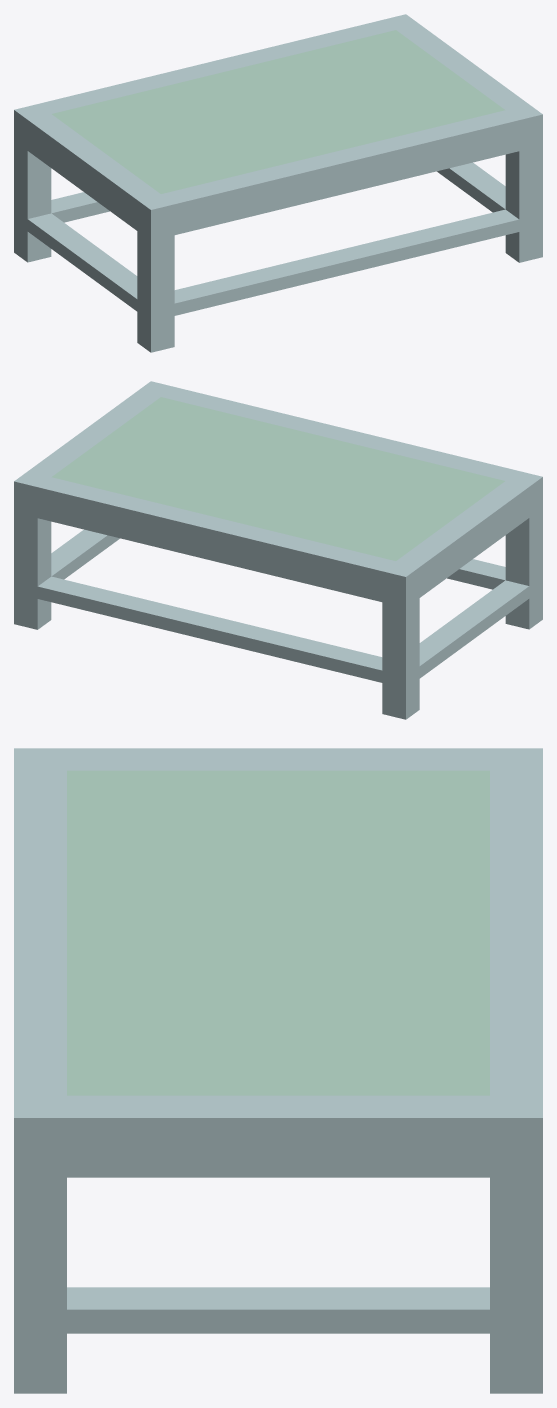
3 renders of one model, top to bottom at view 1: azimuth 30°, elevation 25°; view 2: azimuth 150°, elevation 25°; view 3: azimuth 270°, elevation 25°, orthographic. The views are drawn at different scales.
Visible parts, largest first — view 1: tableCoffeeGlass; view 2: tableCoffeeGlass; view 3: tableCoffeeGlass.
Part boxes in pixels (x1,y1,x2,y2): tableCoffeeGlass: [14, 14, 542, 352]; tableCoffeeGlass: [14, 381, 542, 719]; tableCoffeeGlass: [14, 748, 542, 1393].
Size of the model in its own units: 1 by 0.348 by 0.6051.
